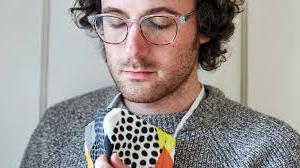mask_weared_incorrect: (98, 5, 191, 132)
